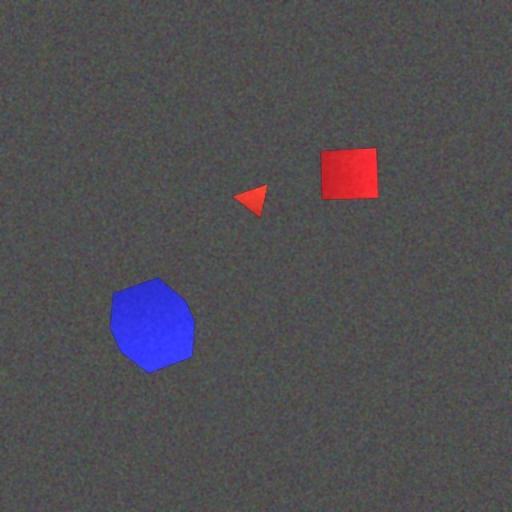RED_SQUARE: (320, 147, 379, 201)
